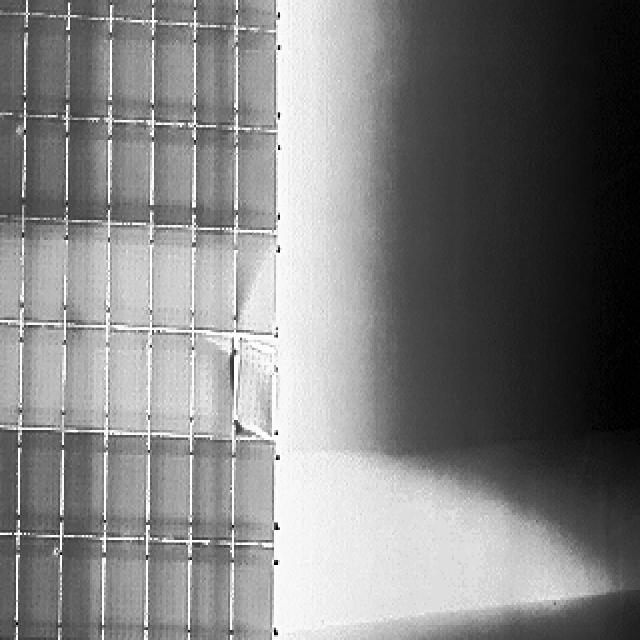Hotspots: (11, 120, 25, 145)
PV-modules: (20, 429, 70, 536), (151, 433, 201, 540), (228, 434, 276, 540), (64, 117, 110, 222), (192, 125, 238, 230), (61, 331, 106, 438), (106, 330, 151, 436), (189, 338, 234, 444), (63, 224, 108, 330), (98, 537, 144, 640), (192, 22, 238, 124), (21, 326, 66, 430), (190, 230, 234, 336), (105, 437, 150, 540), (16, 535, 60, 640), (67, 15, 111, 119), (108, 228, 152, 332), (109, 123, 153, 226), (58, 537, 102, 640), (60, 431, 103, 536), (228, 542, 274, 640), (26, 121, 70, 223), (154, 336, 196, 442), (27, 14, 71, 115), (237, 232, 280, 335), (109, 22, 153, 122), (188, 540, 232, 640), (142, 540, 186, 640), (23, 224, 66, 326), (190, 441, 232, 545), (238, 30, 280, 134), (239, 130, 281, 234), (156, 123, 197, 228), (150, 24, 193, 124), (237, 336, 278, 439), (150, 229, 191, 331), (0, 218, 24, 322), (0, 13, 24, 115), (0, 118, 22, 220), (0, 323, 18, 425), (0, 425, 16, 533), (0, 530, 12, 640), (239, 0, 281, 29), (194, 0, 237, 26), (152, 0, 196, 24), (63, 0, 117, 19), (108, 0, 153, 20), (24, 0, 68, 17)
